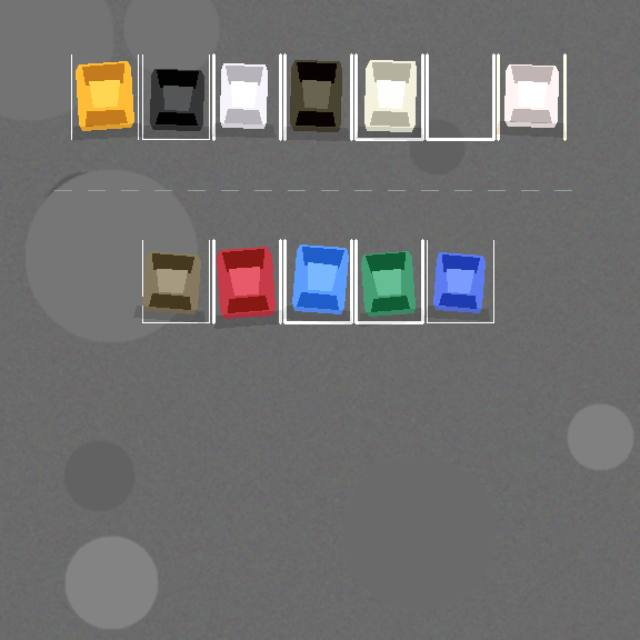space-empty: (427, 54, 493, 139)
space-occupied: (71, 54, 138, 139), (142, 54, 209, 139), (213, 54, 280, 139), (284, 54, 351, 139), (356, 54, 422, 139), (498, 54, 564, 139), (142, 240, 209, 322), (213, 240, 280, 322), (284, 240, 351, 322), (356, 240, 422, 322), (427, 240, 493, 322)
